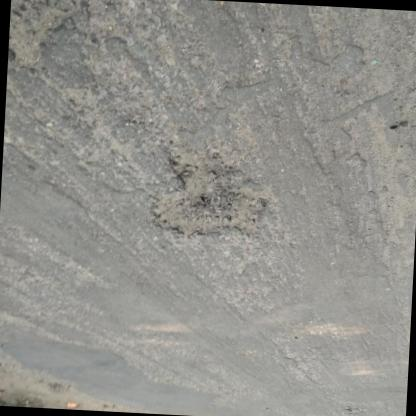pothole: (146, 142, 270, 246)
